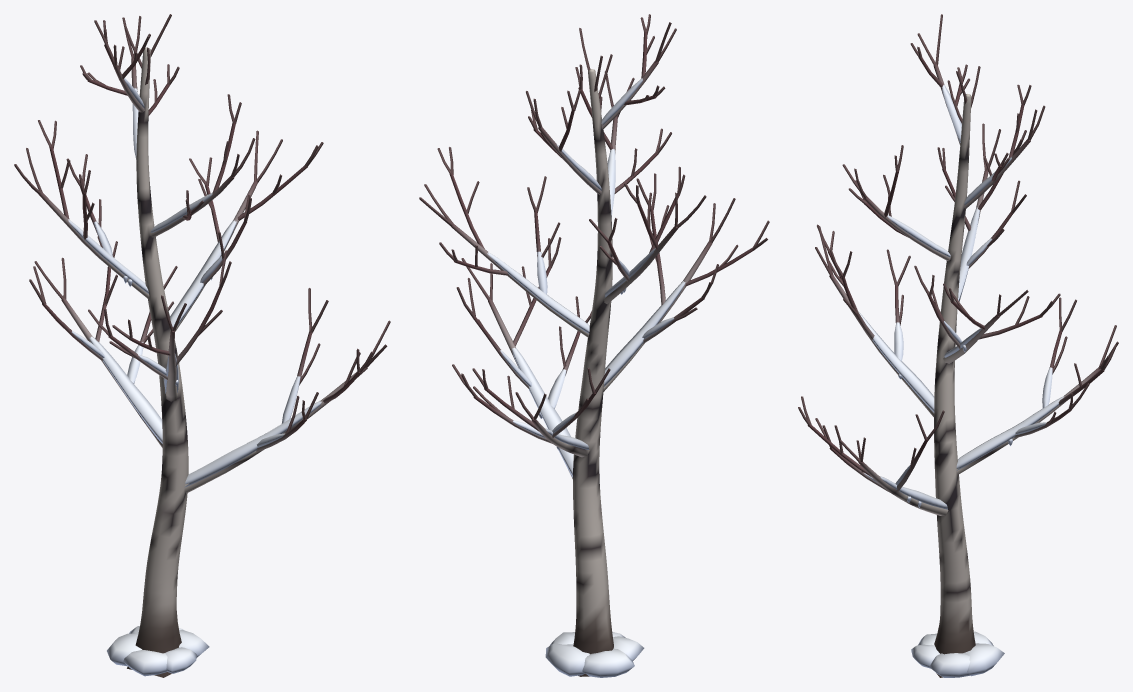
The model's file is tree-birch-v0.glb.
3 renders of one model, left to right at view 1: azimuth 30°, elevation 25°; view 2: azimuth 150°, elevation 25°; view 3: azimuth 270°, elevation 25°, orthographic. The views are drawn at different scales.
Parts seen in each view (by area): view 1: bark, d_body; view 2: bark, d_body; view 3: bark, d_body.
Part boxes in pixels (x1=…): bark: x1=14, y1=14, x2=390, y2=677; d_body: x1=68, y1=78, x2=321, y2=676; bark: x1=419, y1=14, x2=769, y2=676; d_body: x1=487, y1=78, x2=685, y2=677; bark: x1=798, y1=14, x2=1118, y2=677; d_body: x1=858, y1=85, x2=1064, y2=677.
Size of the model in its own units: 3.16 by 6.44 by 3.02.
